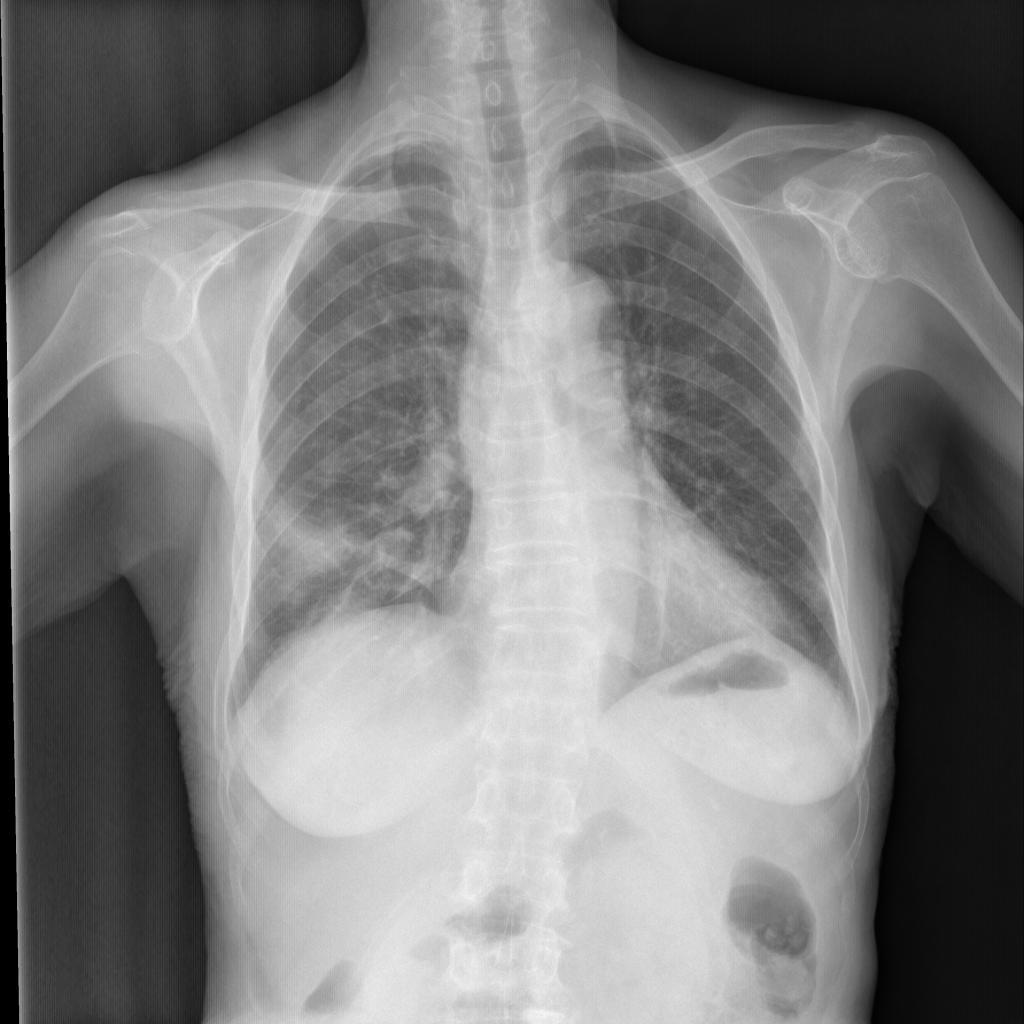Nodule: (385, 447, 465, 512), (358, 527, 423, 584)
